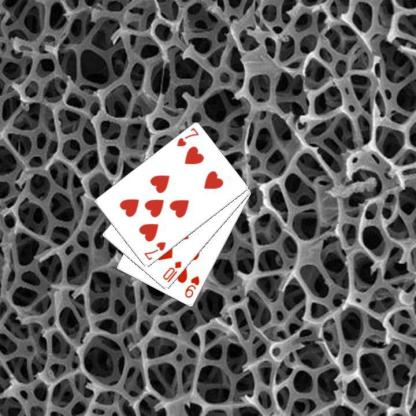10D: (160, 259, 183, 284)
7H: (174, 125, 200, 148), (142, 239, 167, 262)
9H: (182, 274, 201, 300)
